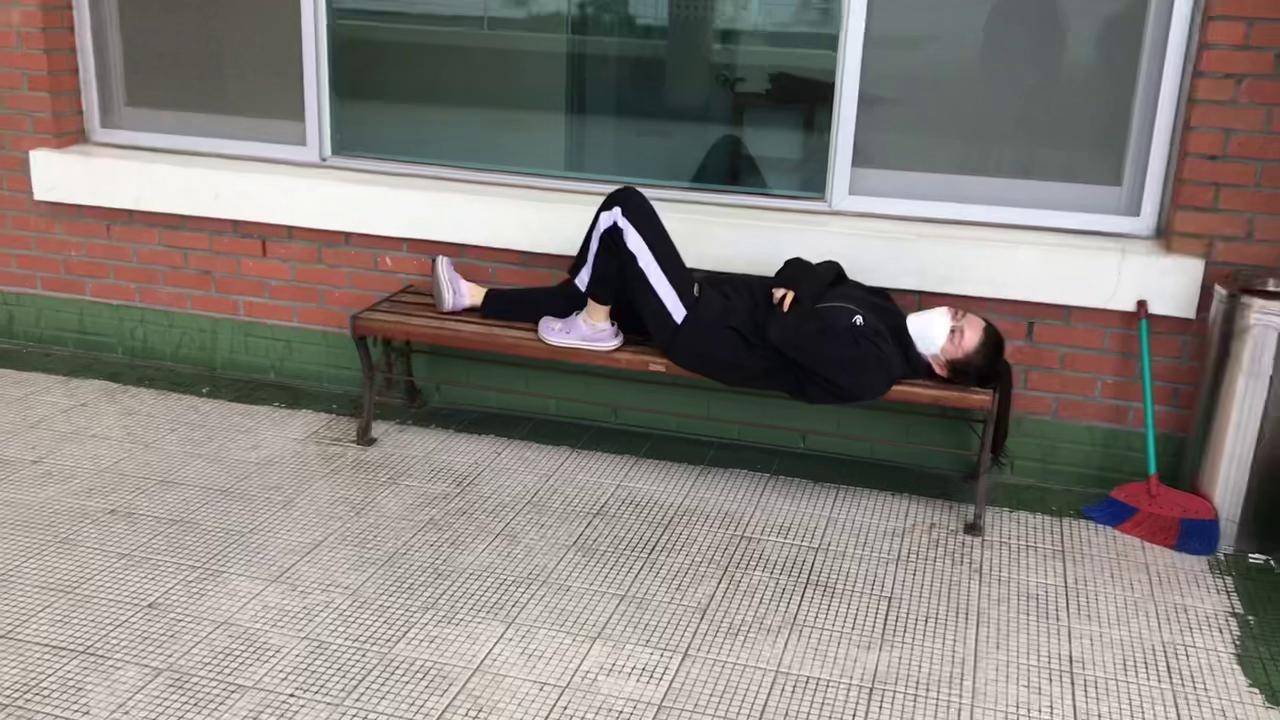sleep: (430, 183, 1009, 404)
